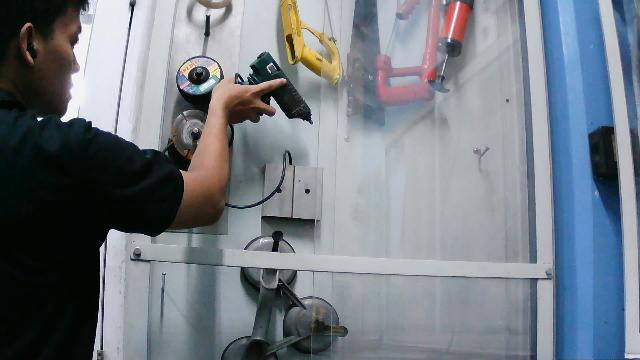gun_lem: (215, 46, 316, 136)
